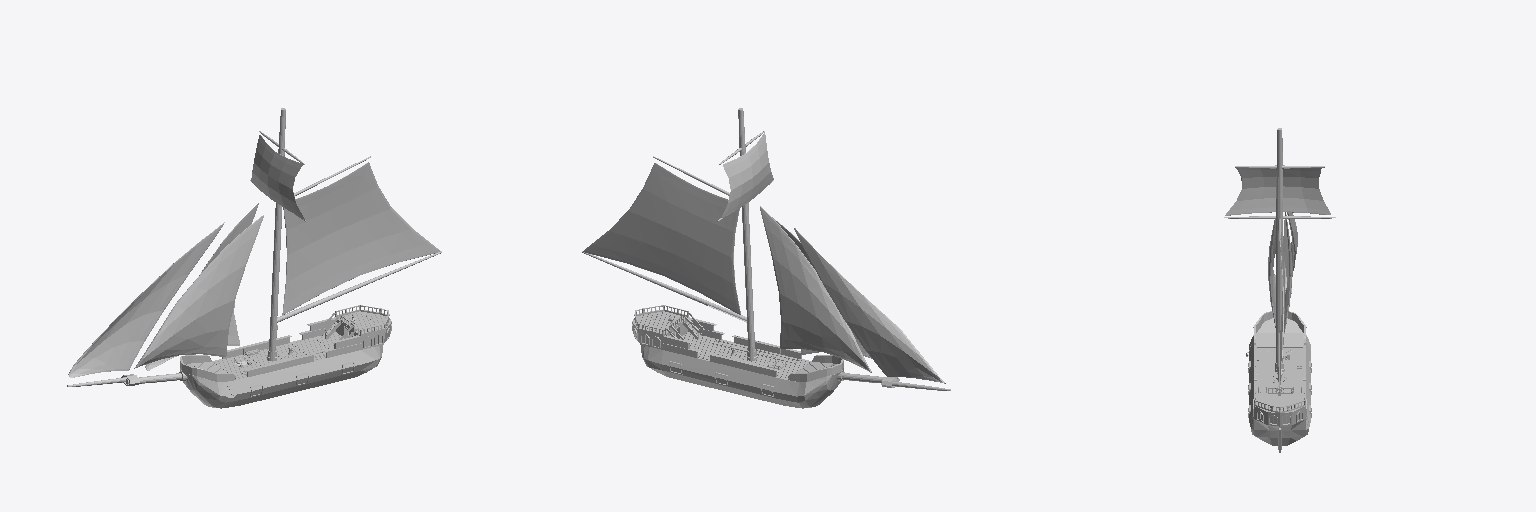
Rendered from ship2.obj.
The picture shows the model from 3 angles: view 1: azimuth 30°, elevation 25°; view 2: azimuth 150°, elevation 25°; view 3: azimuth 270°, elevation 25°; orthographic projection.
Visible parts, largest first — view 1: ship; view 2: ship; view 3: ship.
Boxes of the visible parts, box(x1,y1,x2,y2) form: ship: box(67, 108, 441, 408); ship: box(582, 108, 950, 408); ship: box(1224, 128, 1335, 452).
Bounding box in the file's own units: 50.02 × 36.11 × 13.06.